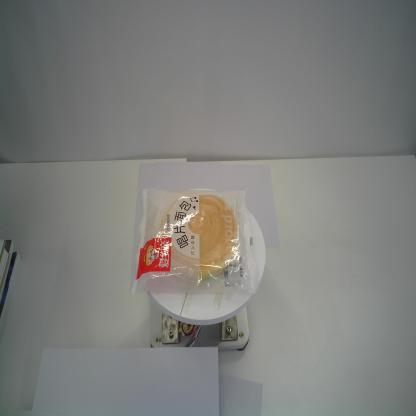Dessert: (128, 187, 258, 298)
